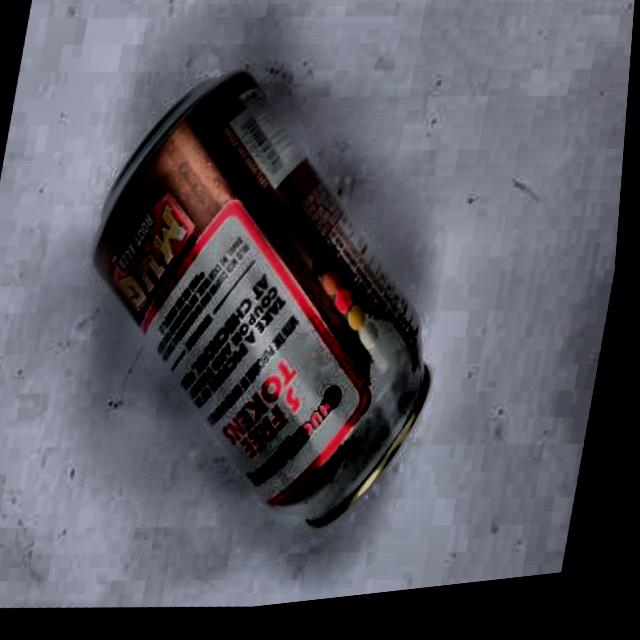Cans: (24, 12, 515, 596)
